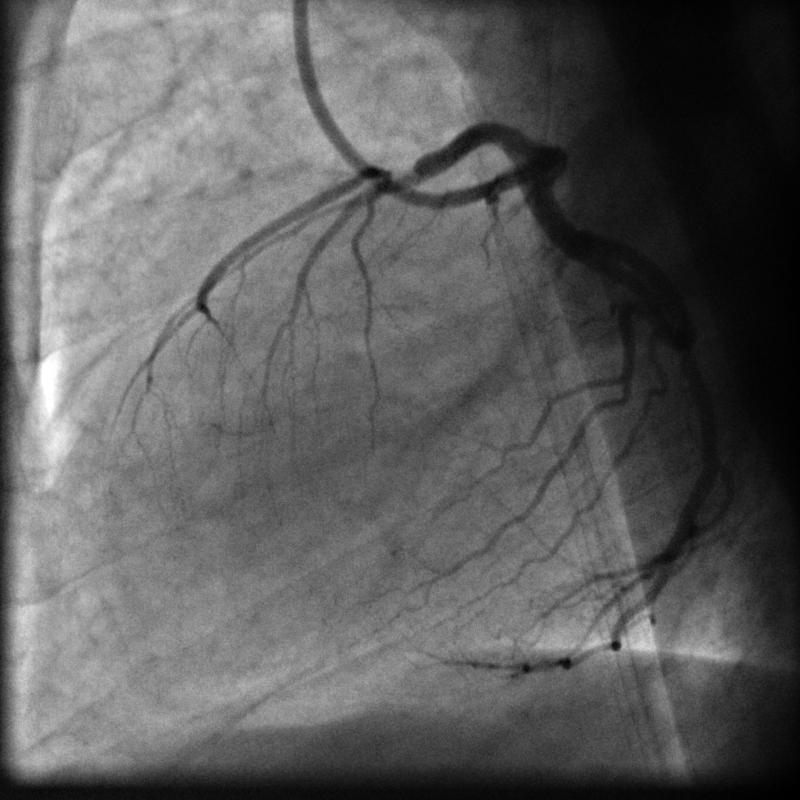Stenosis: (374, 157, 426, 195)
